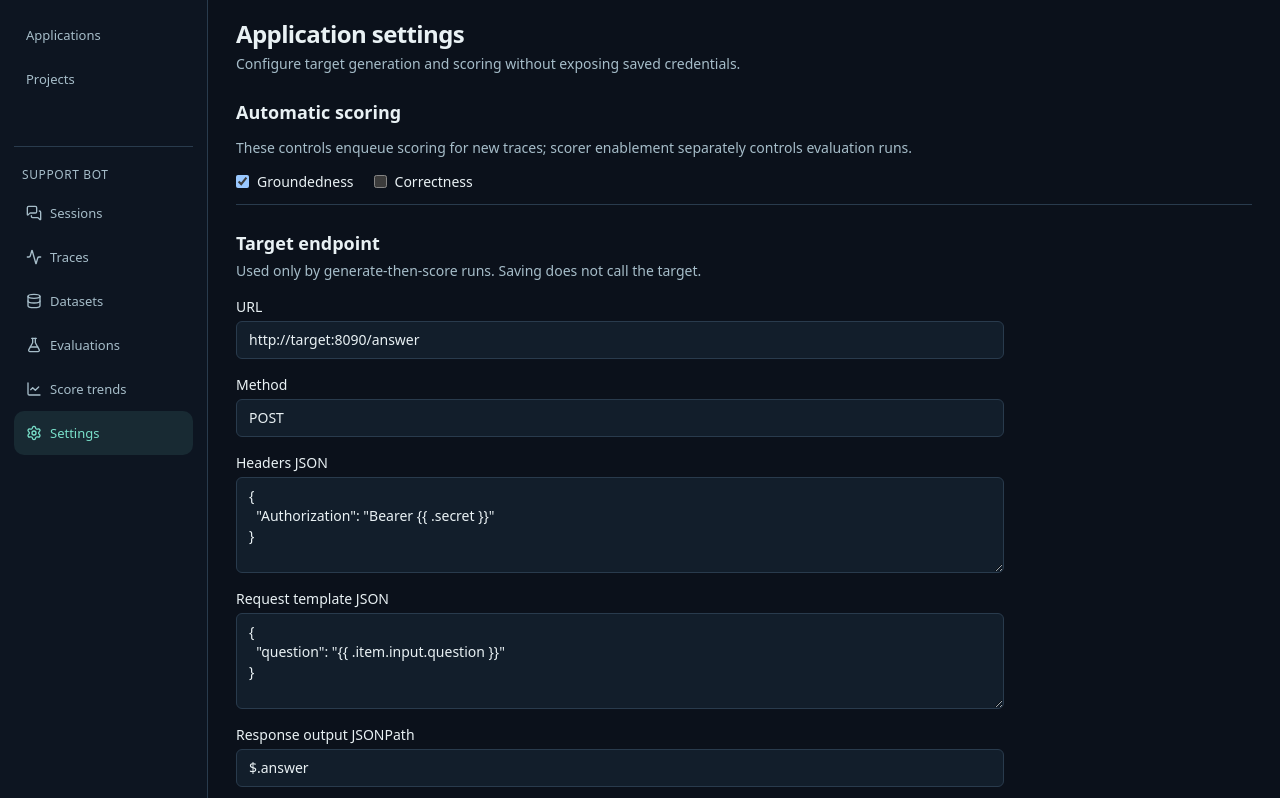
Test: rejects malformed endpoint JSON before sending it
This screenshot has width=1280, height=798.
Replace the text in the text box labelled "Headers JSON" with "[" at [620, 524], box [236,476,1004,572]
(page scrolled)
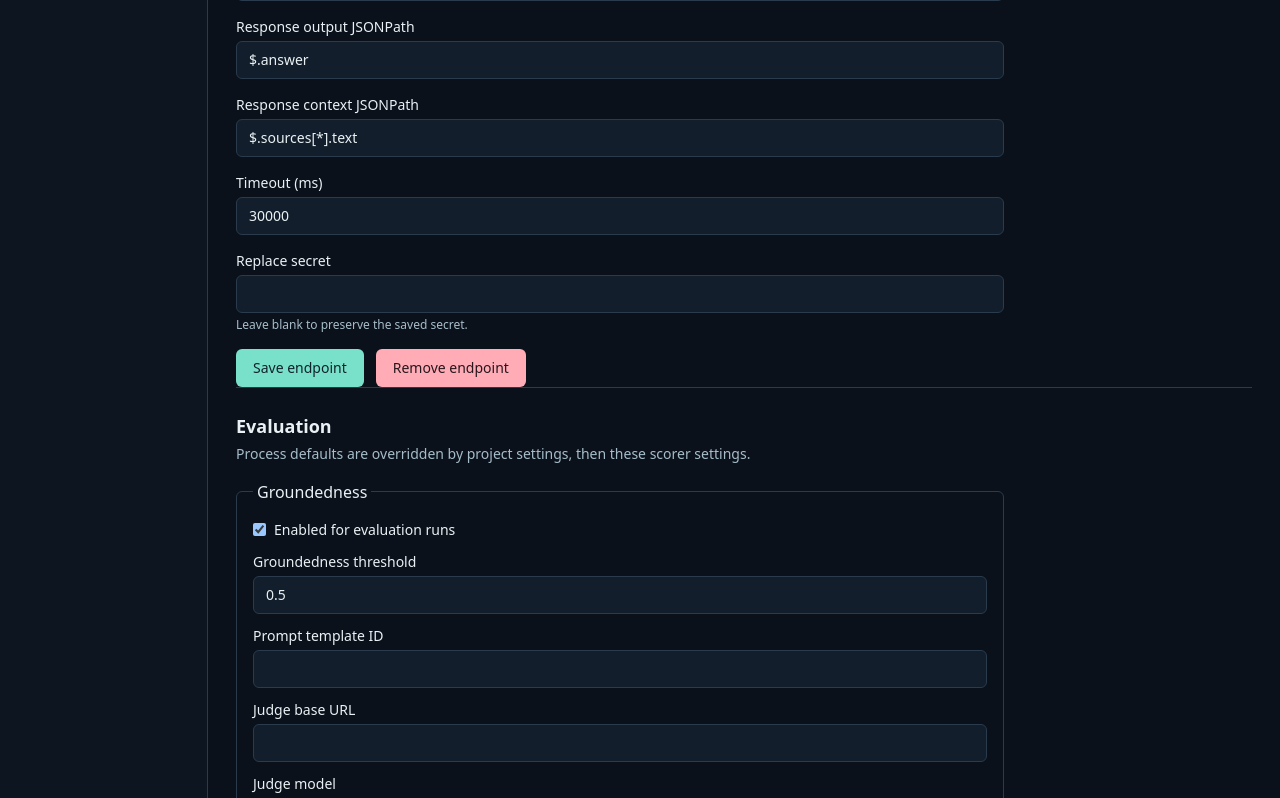
Click the button "Save endpoint" at [300, 368], box [236,348,364,386]
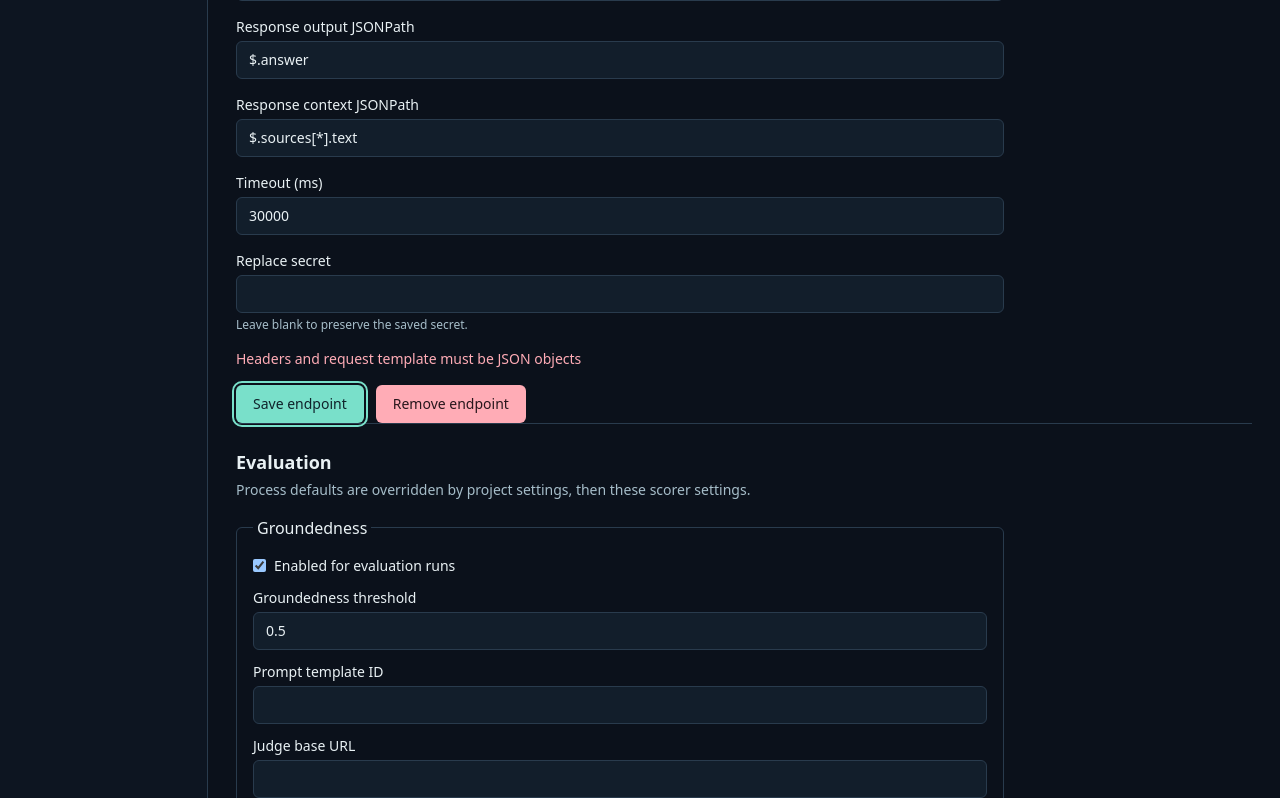
Now the message shows "must be JSON objects", box [236,348,581,368]
